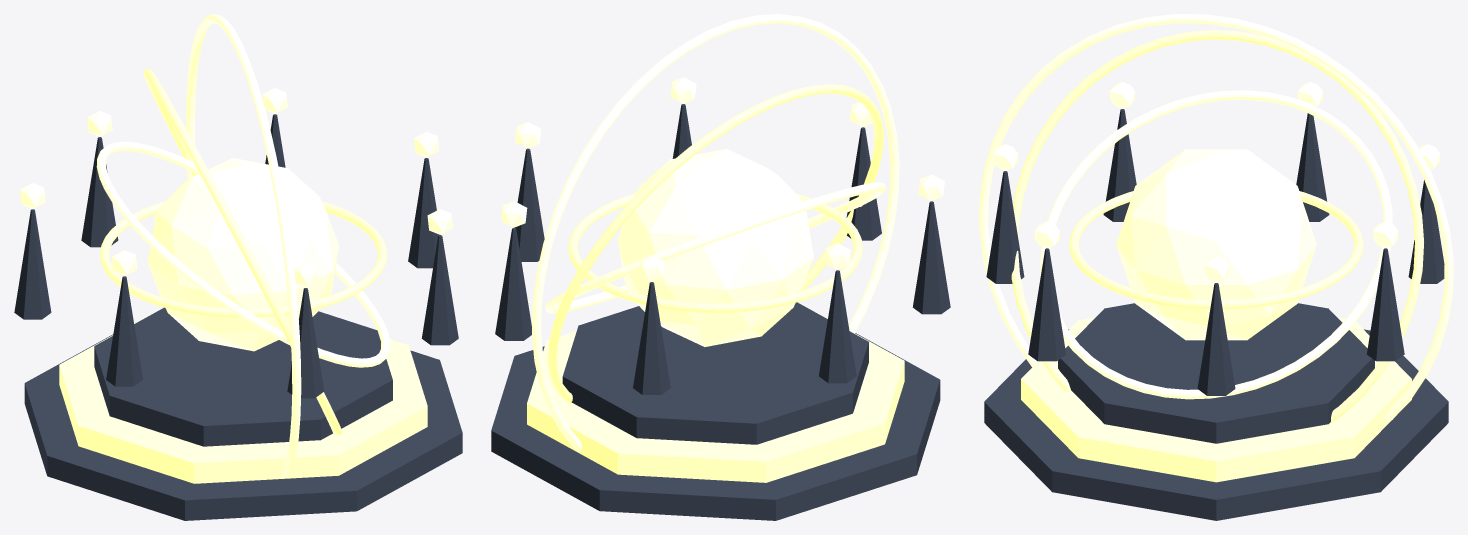
Rendered from gpu-blender-v15.glb.
3 views of the same model, side by side, from view 1: azimuth 30°, elevation 25°; view 2: azimuth 150°, elevation 25°; view 3: azimuth 270°, elevation 25° (orthographic). The views are drawn at different scales.
Parts seen in each view (by area): view 1: Cylinder.002, SovereignCore_1nc0gn30, Cylinder, Cylinder.001, Torus.003, Torus.001, Torus, Torus.002, Cone.003, Cone.006, Cone.004, Cone (+8 smaller); view 2: Cylinder.002, SovereignCore_1nc0gn30, Cylinder, Cylinder.001, Torus.003, Torus.002, Torus.001, Torus, Cone.003, Cone.004, Cone.002, Cone.001 (+9 smaller); view 3: SovereignCore_1nc0gn30, Cylinder.002, Cylinder, Cylinder.001, Torus.003, Torus.002, Torus.001, Torus, Cone.001, Cone.006, Cone, Cone.005 (+5 smaller).
Part boxes in pixels (x1,y1,x2,y2): Cylinder.002: [94, 307, 392, 446]; SovereignCore_1nc0gn30: [148, 158, 339, 351]; Cylinder: [24, 334, 462, 520]; Cylinder.001: [59, 315, 427, 483]; Torus.003: [186, 14, 301, 476]; Torus.001: [96, 141, 390, 367]; Torus: [100, 201, 387, 317]; Torus.002: [143, 68, 342, 435]; Cone.003: [14, 209, 51, 319]; Cone.006: [421, 235, 458, 345]; Cone.004: [106, 276, 142, 386]; Cone: [408, 158, 440, 268]; Cylinder.002: [562, 302, 868, 444]; SovereignCore_1nc0gn30: [617, 149, 813, 346]; Cylinder: [491, 333, 940, 520]; Cylinder.001: [527, 310, 904, 482]; Torus.003: [532, 14, 899, 452]; Torus.002: [547, 84, 883, 403]; Torus.001: [545, 182, 885, 313]; Torus: [568, 193, 862, 312]; Cone.003: [819, 270, 856, 383]; Cone.004: [912, 201, 950, 314]; Cone.002: [633, 282, 670, 394]; Cone.001: [495, 228, 531, 340]; SovereignCore_1nc0gn30: [1116, 149, 1316, 340]; Cylinder.002: [1058, 303, 1374, 443]; Cylinder: [984, 329, 1448, 520]; Cylinder.001: [1021, 317, 1411, 482]; Torus.003: [979, 14, 1453, 424]; Torus.002: [1011, 30, 1423, 422]; Torus.001: [1040, 90, 1392, 399]; Torus: [1069, 191, 1363, 309]; Cone.001: [1366, 248, 1404, 361]; Cone.006: [1028, 248, 1066, 361]; Cone: [1197, 283, 1235, 395]; Cone.005: [986, 171, 1024, 283].
Bounding box in the file's own units: 4.41 × 4.7 × 4.49.
